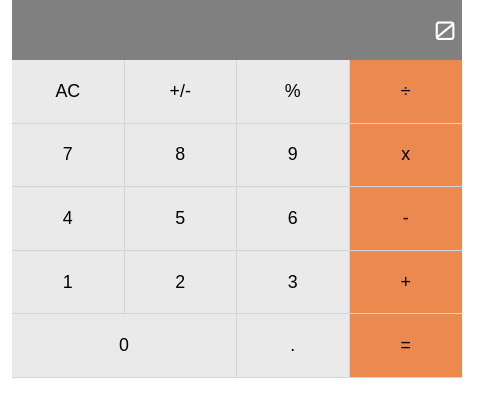
The CalculatorApp component displays › the result '0' in the '.final-result' box when user clicks on the button AC
Click the button "9": {"x": 293, "y": 155} [237,124,350,187]
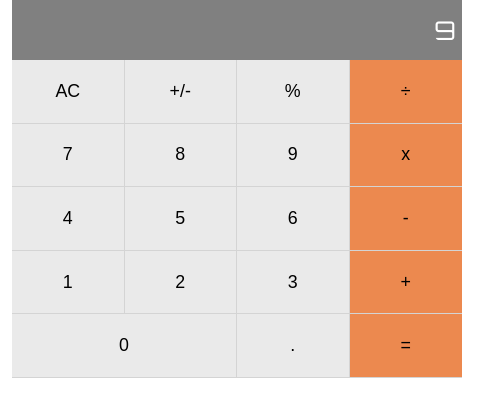
Click the button "4": {"x": 68, "y": 219} [12,187,124,251]
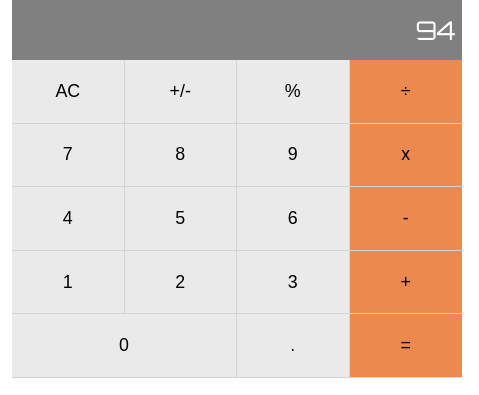
Click the button "AC": {"x": 68, "y": 92} [12,60,124,124]
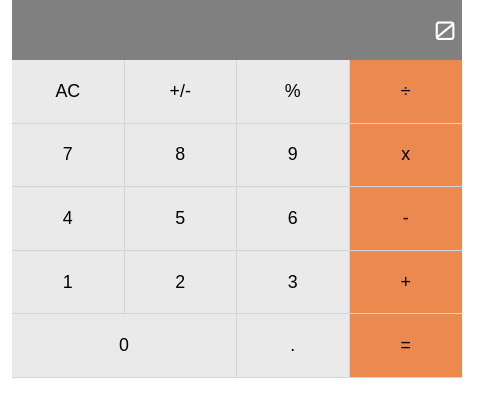
Expected: the text with class "final-result" reads "0", [434,14,456,46]
